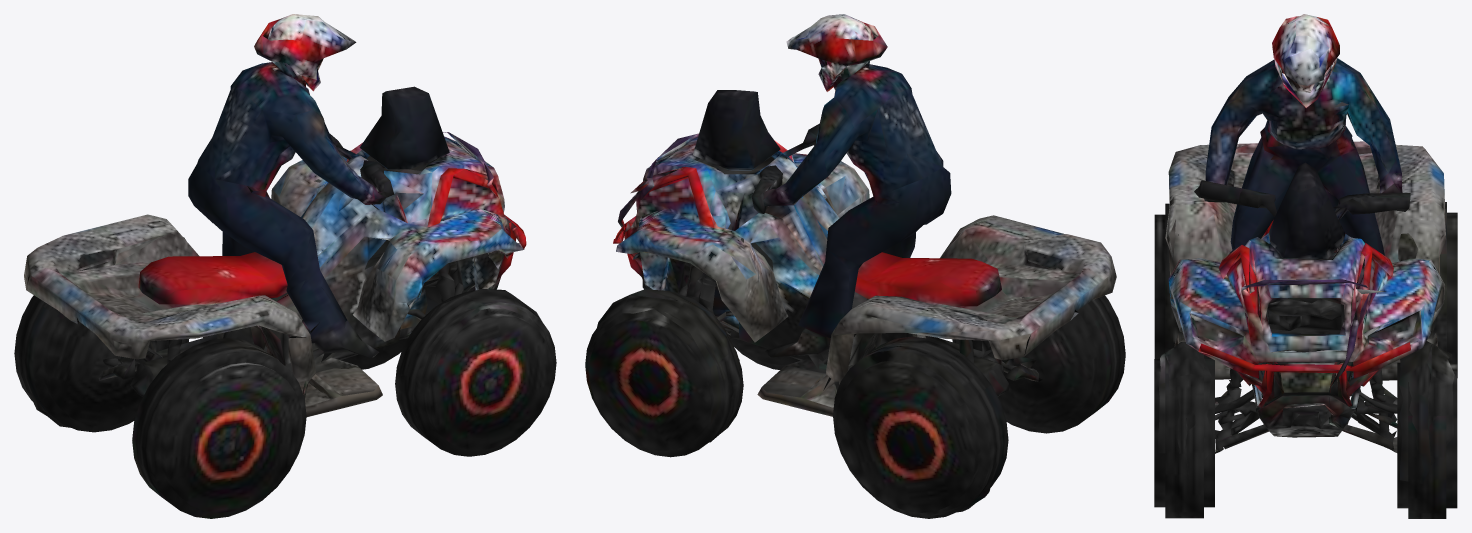
Rendered from atv_gen_2.glb.
The picture shows the model from 3 angles, left to right: view 1: azimuth 30°, elevation 25°; view 2: azimuth 150°, elevation 25°; view 3: azimuth 270°, elevation 25°; orthographic projection. The views are drawn at different scales.
Visible parts, largest first — view 1: Body, Wheel_RL, Wheel_FL, Wheel_RR, Wheel_FR; view 2: Body, Wheel_RR, Wheel_FR, Wheel_RL, Wheel_FL; view 3: Body, Wheel_FL, Wheel_FR, Wheel_RL, Wheel_RR.
Part boxes in pixels (bbox=[...]): Body: bbox=[24, 14, 548, 427]; Wheel_RL: bbox=[132, 338, 306, 518]; Wheel_FL: bbox=[395, 290, 556, 456]; Wheel_RR: bbox=[14, 295, 188, 432]; Wheel_FR: bbox=[341, 338, 407, 369]; Body: bbox=[592, 14, 1116, 515]; Wheel_RR: bbox=[833, 336, 1008, 518]; Wheel_FR: bbox=[585, 306, 743, 457]; Wheel_RL: bbox=[952, 295, 1125, 433]; Wheel_FL: bbox=[729, 337, 800, 369]; Body: bbox=[1158, 14, 1454, 483]; Wheel_FL: bbox=[1154, 348, 1214, 518]; Wheel_FR: bbox=[1397, 353, 1457, 518]; Wheel_RL: bbox=[1154, 203, 1183, 358]; Wheel_RR: bbox=[1432, 202, 1457, 377].
Bounding box in the file's own units: 2.47 × 2.26 × 1.44.
1 material, 1 textured.
